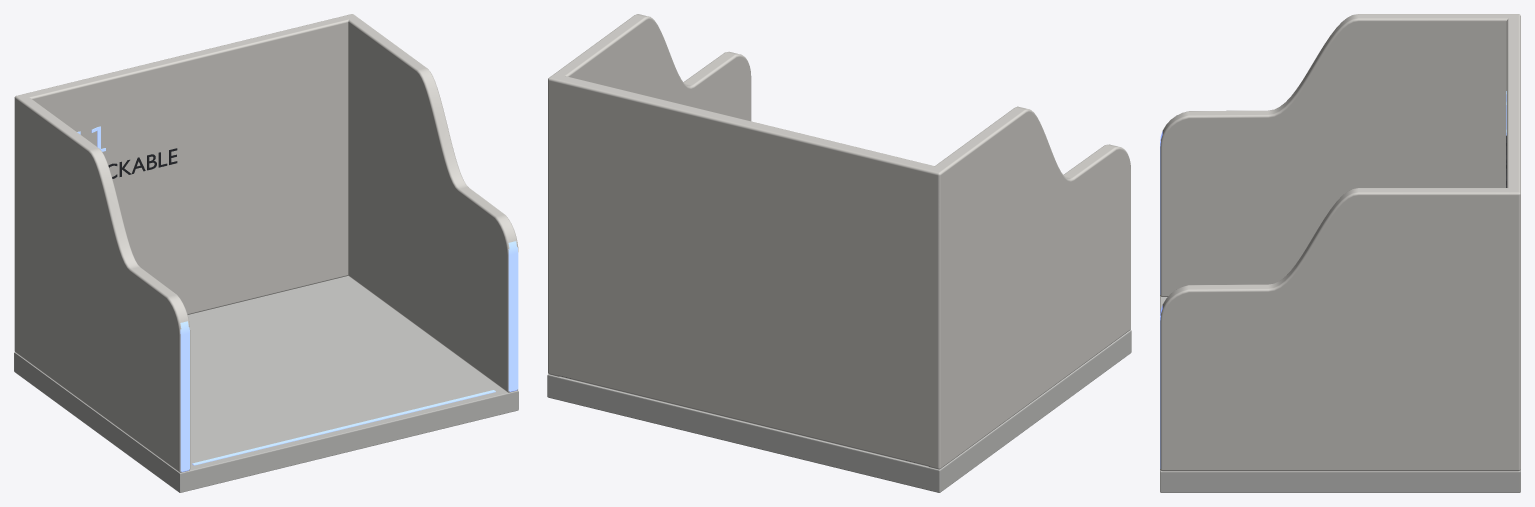
The model's file is Room_11_stackable.glb.
3 renders of one model, left to right at view 1: azimuth 30°, elevation 25°; view 2: azimuth 150°, elevation 25°; view 3: azimuth 270°, elevation 25°, orthographic. The views are drawn at different scales.
Parts seen in each view (by area): view 1: Walls, Floor, Accent, Label; view 2: Walls, Floor; view 3: Walls, Floor.
Boxes of the visible parts, box(x1,y1,x2,y2) form: Walls: box(14, 14, 518, 472); Floor: box(14, 276, 518, 492); Accent: box(192, 390, 495, 465); Label: box(77, 126, 177, 178); Walls: box(548, 14, 1130, 469); Floor: box(547, 330, 1131, 492); Walls: box(1160, 14, 1520, 471); Floor: box(1160, 295, 1520, 492).
Size of the model in its own units: 3.6 by 2.8 by 3.05.
